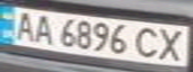6: (109, 21, 133, 56), (54, 16, 78, 48)
8: (72, 18, 93, 51)
9: (90, 20, 112, 53)
A: (9, 8, 39, 42), (30, 12, 57, 45)
C: (133, 25, 163, 60)
X: (154, 26, 190, 62)
